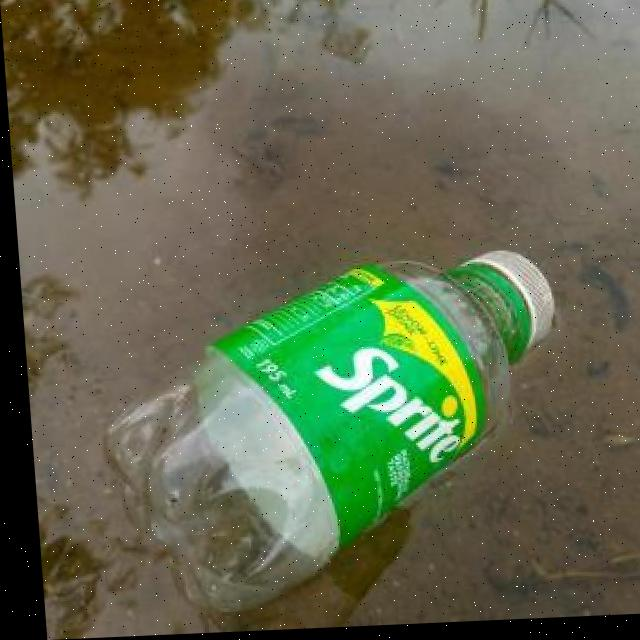bottle: (86, 246, 567, 621)
